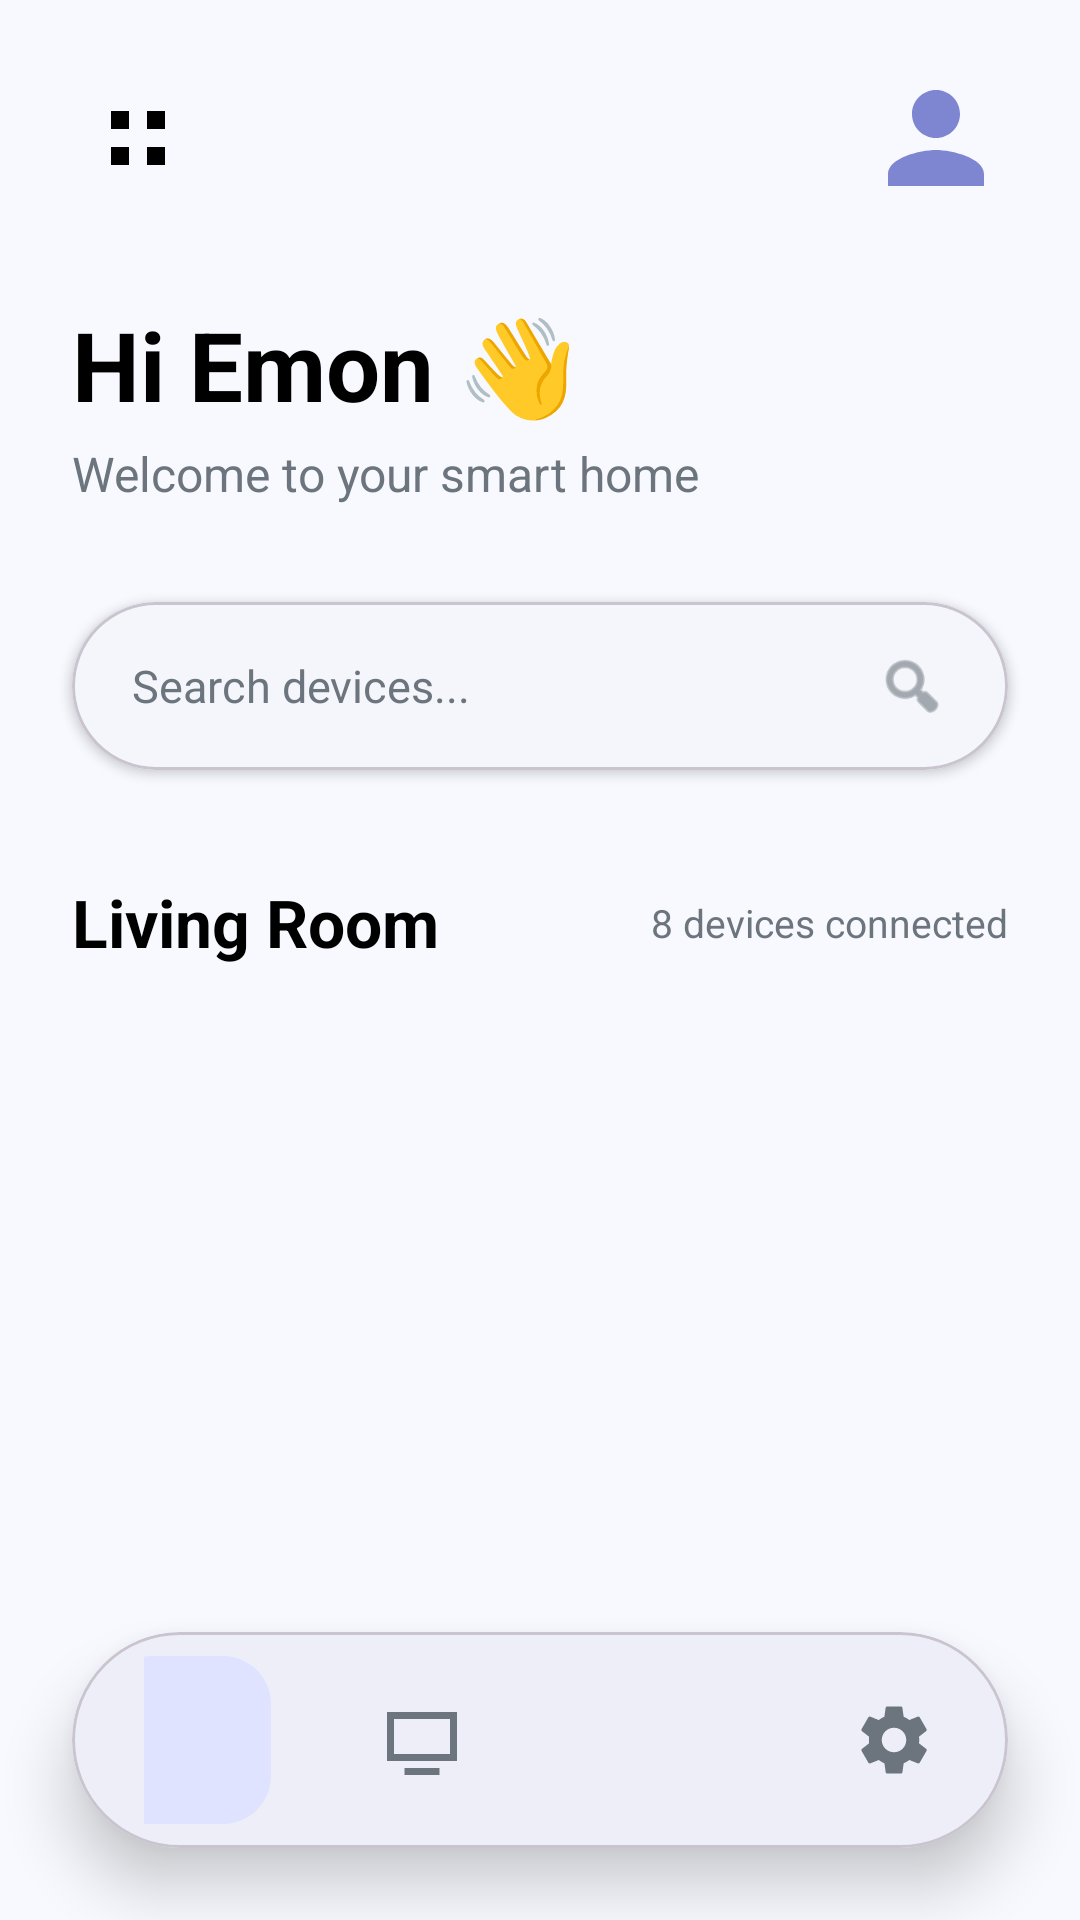

Named icons in this screenshot (1080×1920) and their centers, point (x, y):
devices: point (422, 1743)
grid: point (138, 138)
settings: point (894, 1740)
